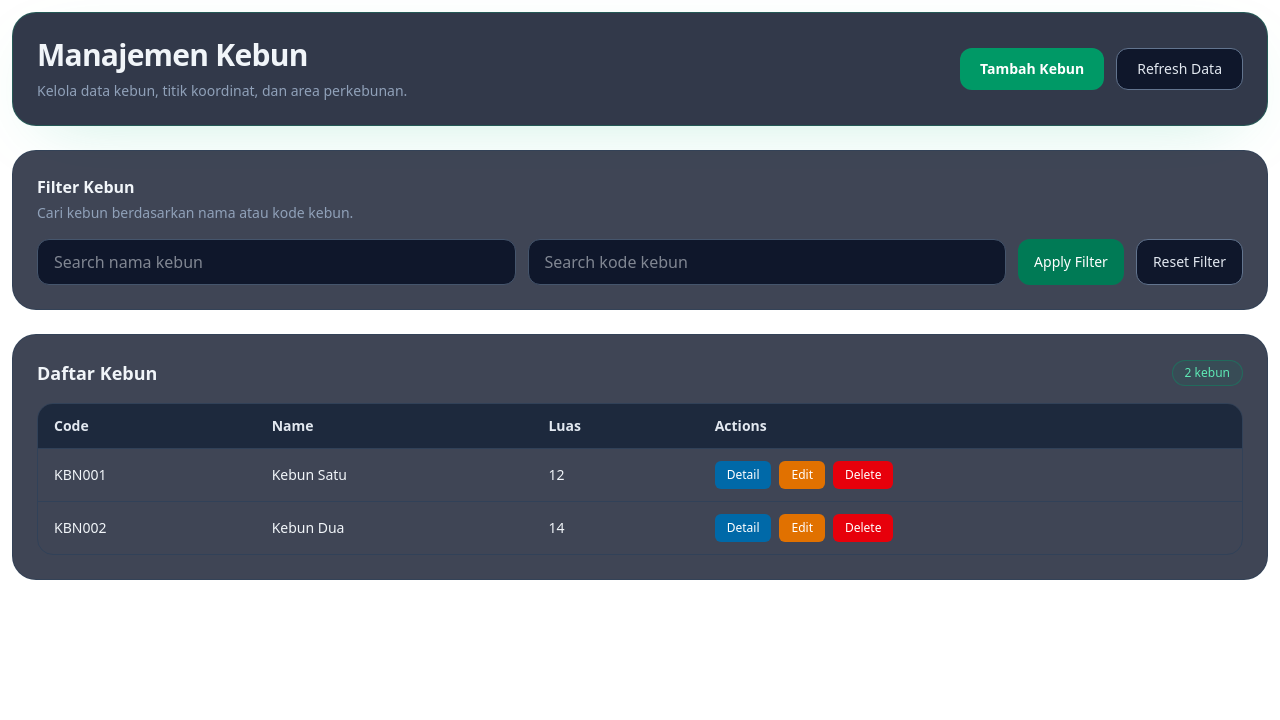
Test: AdminKebunPage delete flow › filters assigned supir list by nama supir in kebun detail
Check: the text "KBN001" is shown, box [38, 448, 256, 502]
Click the button "Detail" in the row of "KBN001" at (743, 475), box [715, 461, 772, 489]
(page scrolled)
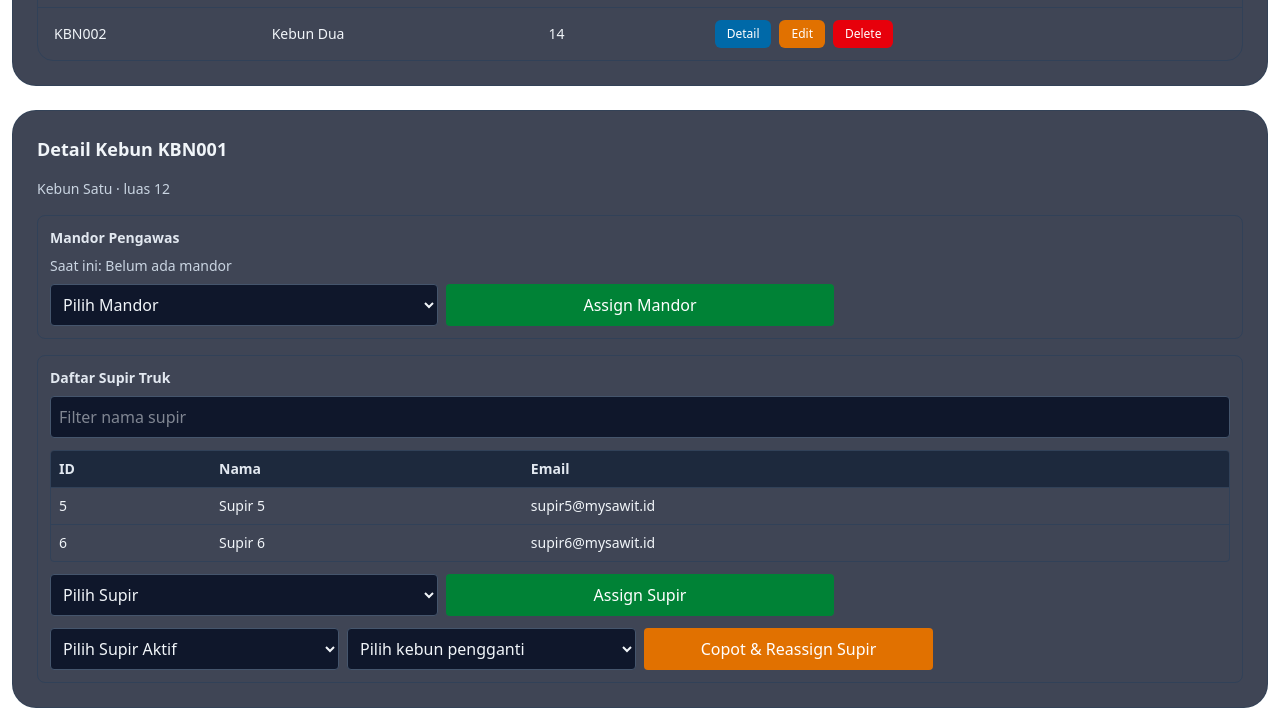
Check: the table that starts with "Nama" is shown, box [51, 451, 1229, 561]
Check: the text "Supir 5" is shown, box [211, 488, 523, 524]
Check: the text "Supir 6" is shown, box [211, 524, 523, 561]
Type "6" into the field with placeholder "Filter nama supir" at (640, 417), box [50, 396, 1230, 438]
(page scrolled)
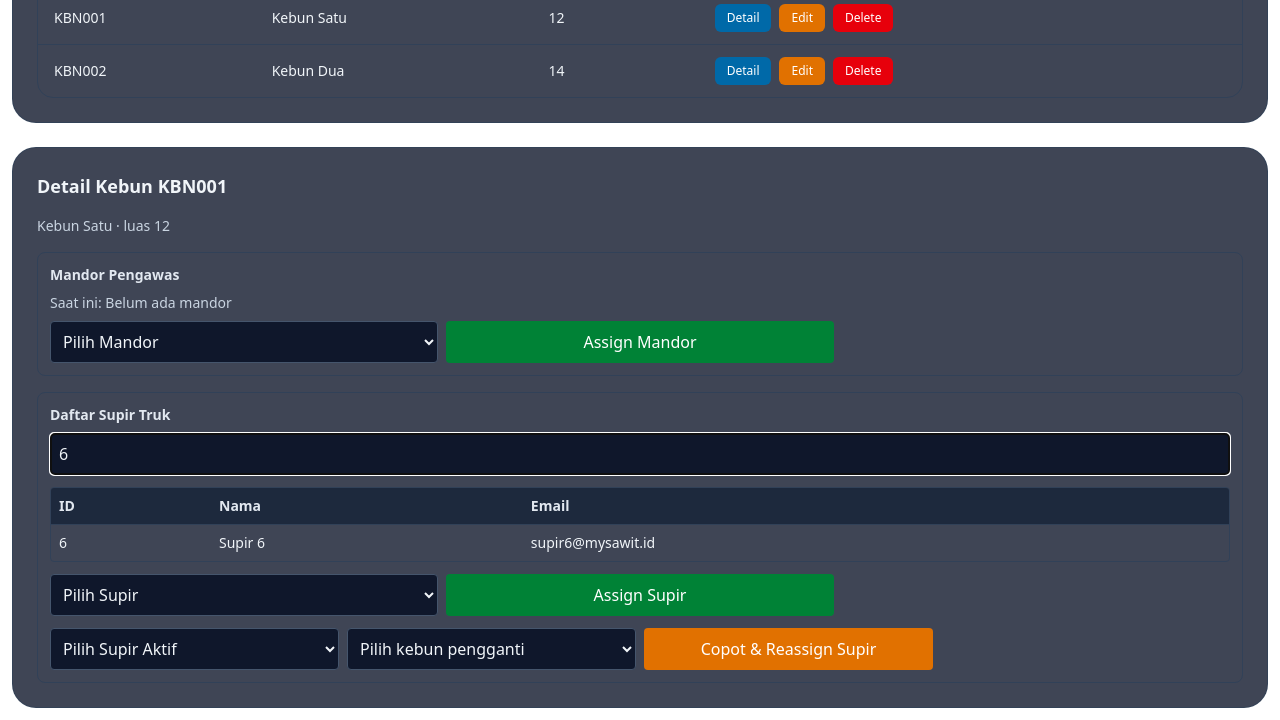
Check: the text "Supir 6" is shown, box [211, 524, 523, 561]
Check: the text "Supir 5" is gone
